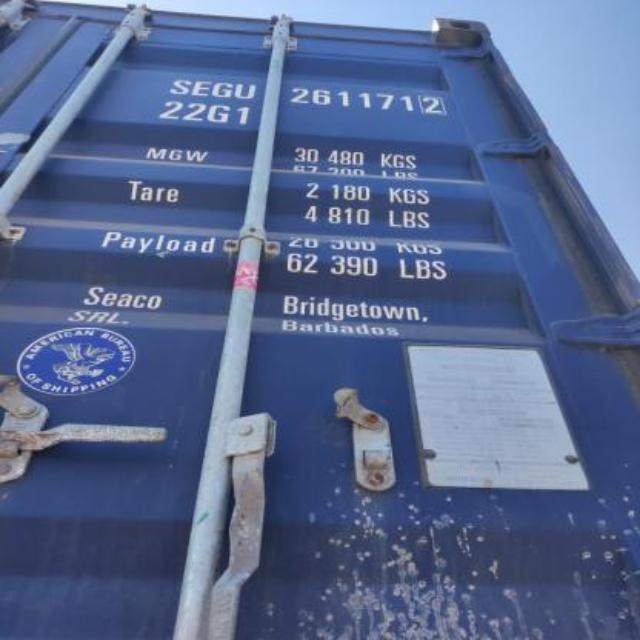1: (360, 90, 374, 112), (400, 94, 416, 112), (338, 89, 352, 109)
2: (422, 95, 442, 115), (286, 87, 310, 103)
6: (312, 89, 332, 105)
7: (376, 92, 392, 112)
E: (193, 80, 211, 96)
G: (213, 83, 231, 99)
S: (170, 79, 193, 97)
U: (233, 80, 257, 100)
